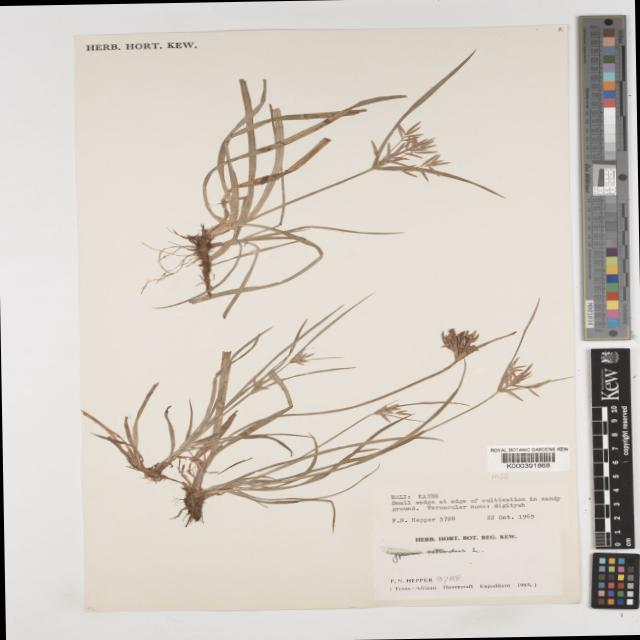cyperus: (361, 111, 452, 187), (428, 322, 489, 368), (490, 354, 550, 399)
